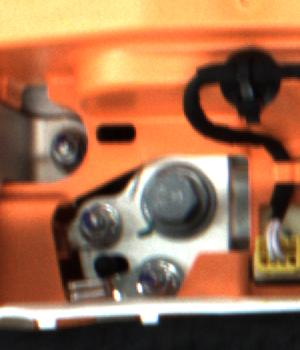nut_b: (142, 165, 213, 233)
